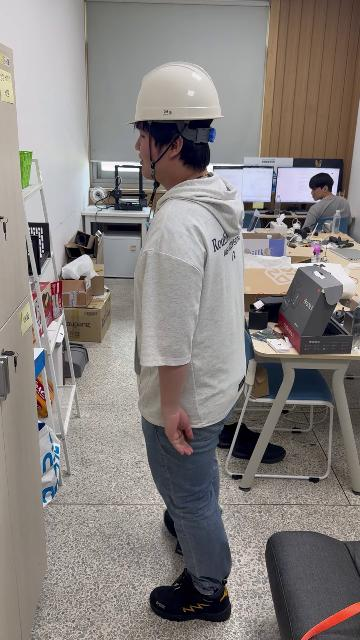helmet_worn: (125, 61, 224, 123)
shoe_not_worn: (221, 422, 284, 462), (220, 418, 271, 444)
shoe_worn: (150, 569, 231, 622), (164, 509, 177, 538)
vest_not_worn: (132, 191, 243, 414)
